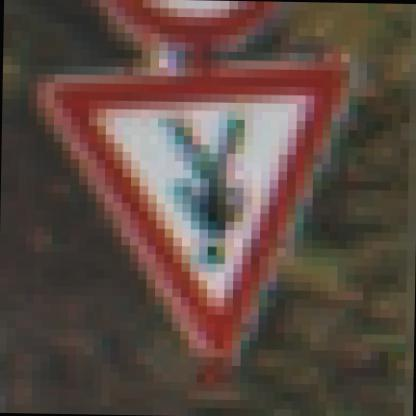crosswalk: (41, 5, 391, 382)
